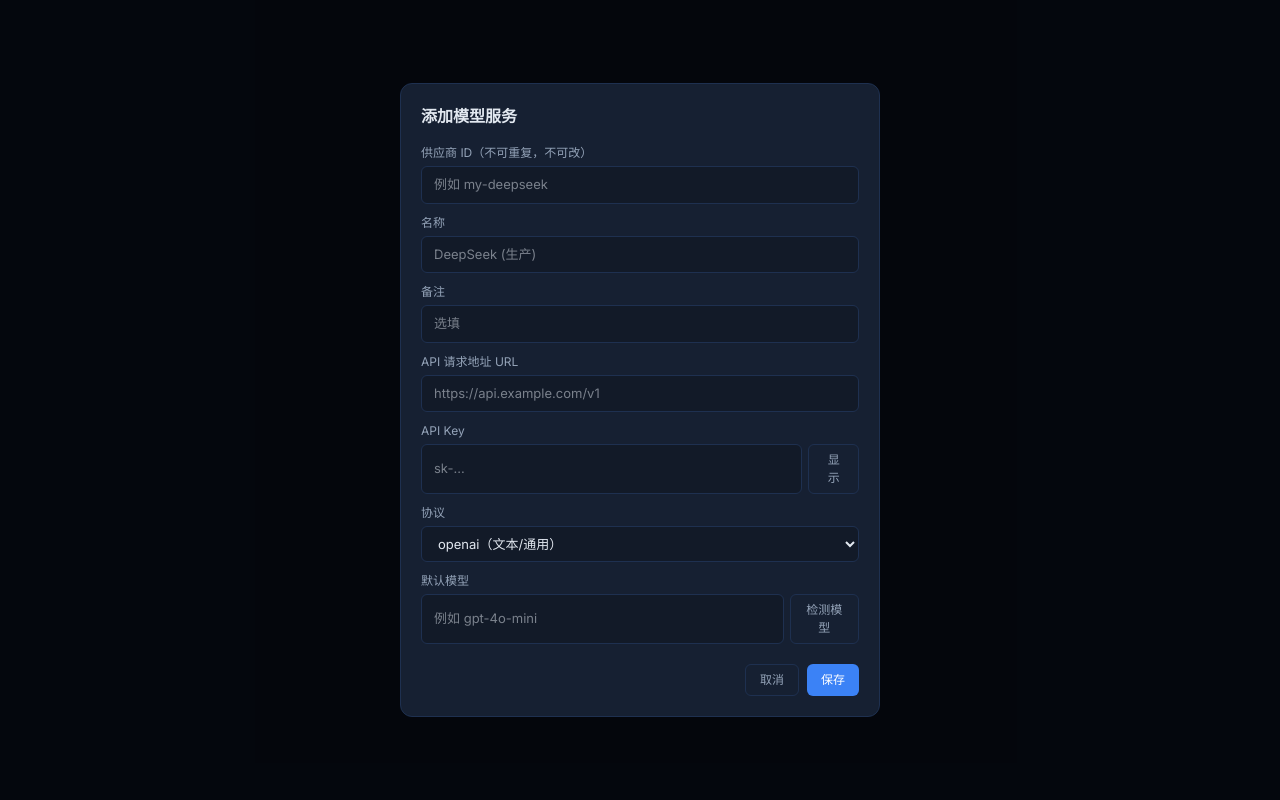
Test case: ModelServiceForm › shows validation error when required fields missing
// Click 保存 without filling fields
Click the button "保存" at x=833, y=680, box [807,664,859,696]
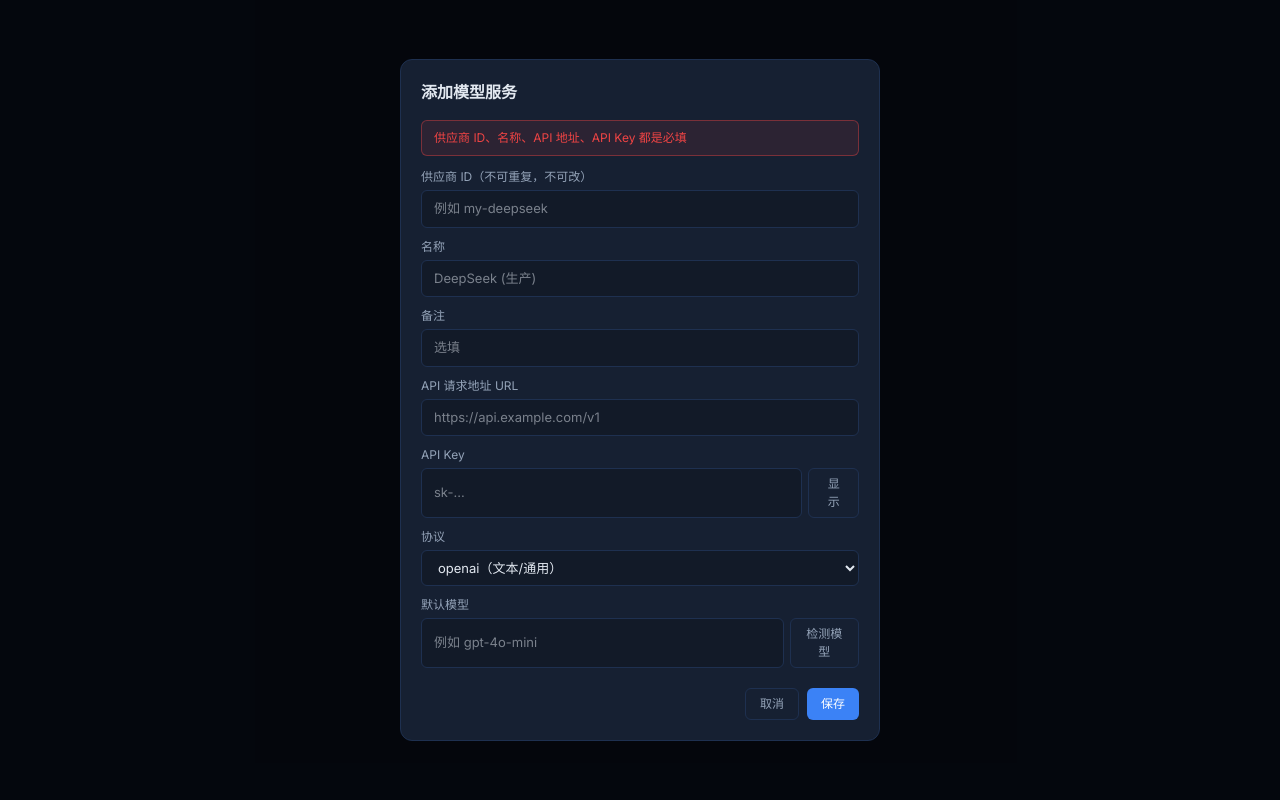
Check: the text "供应商 ID、名称、API 地址、API Key 都是必填" is shown, box [421,120,859,156]
